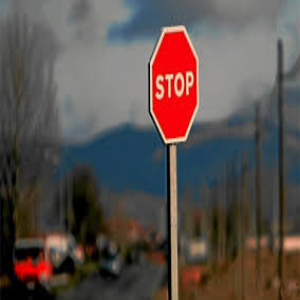STOP_SIGN: (148, 24, 199, 144)
